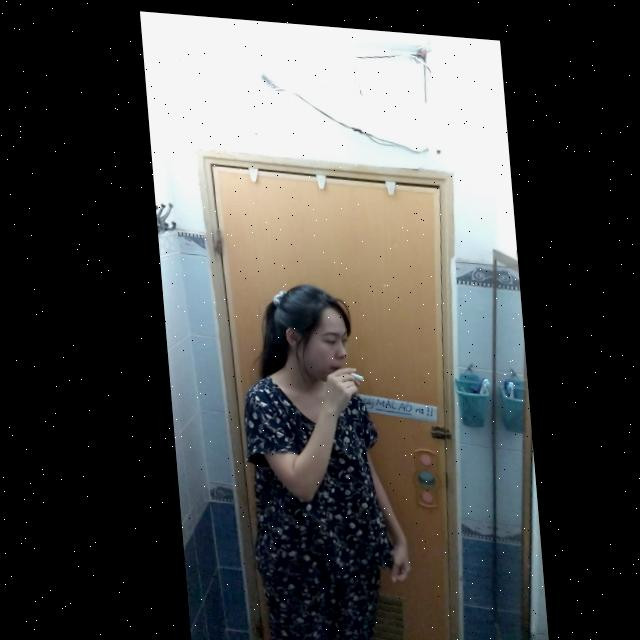cigarette: (344, 367, 357, 375)
